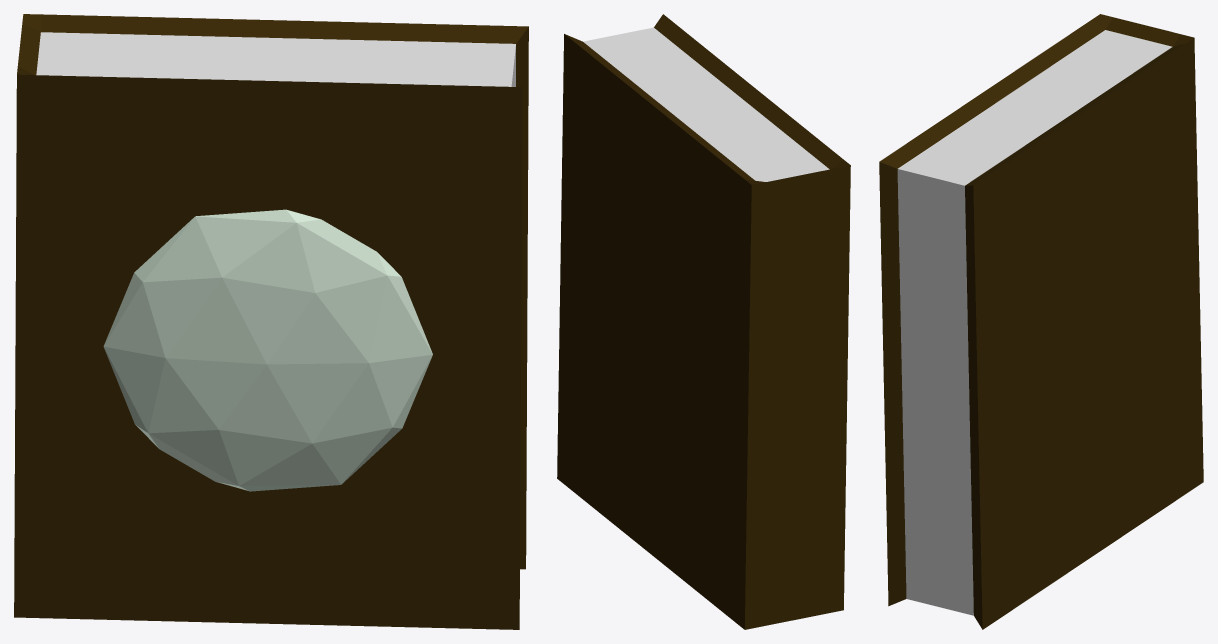
Rendered from icespell.fbx.
3 views of the same model, side by side, from view 1: azimuth 30°, elevation 25°; view 2: azimuth 150°, elevation 25°; view 3: azimuth 270°, elevation 25° (orthographic). The views are drawn at different scales.
Parts seen in each view (by area): view 1: Cube.001; view 2: Cube.001; view 3: Cube.001.
Boxes of the visible parts, box(x1,y1,x2,y2) form: Cube.001: box(14, 14, 528, 629); Cube.001: box(557, 14, 850, 629); Cube.001: box(879, 14, 1203, 629).
Size of the model in its own units: 2985 by 3611 by 2374.
